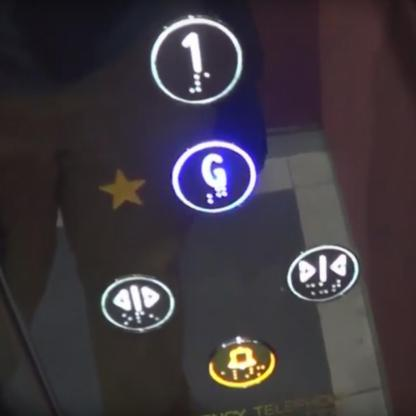1: (147, 10, 245, 107)
G: (168, 136, 260, 217)
alarm: (205, 334, 276, 388)
close: (283, 242, 361, 304)
open: (98, 271, 176, 334)
